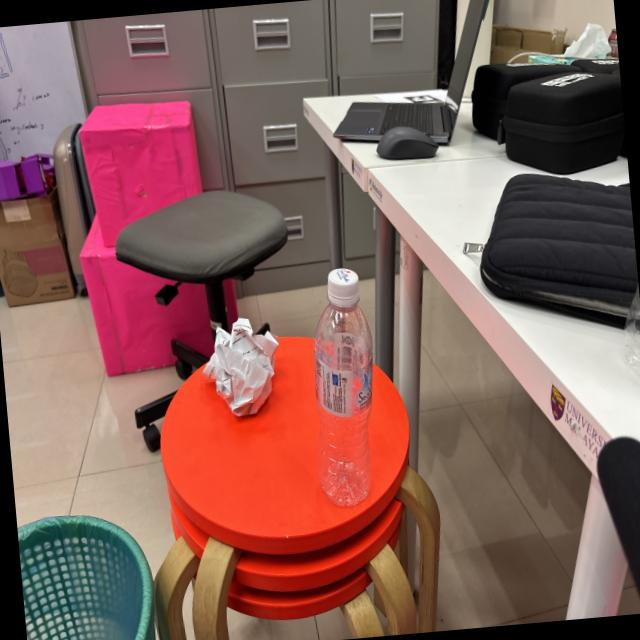crumpled_paper: (196, 303, 291, 429)
plastic_bottle: (296, 255, 394, 513)
